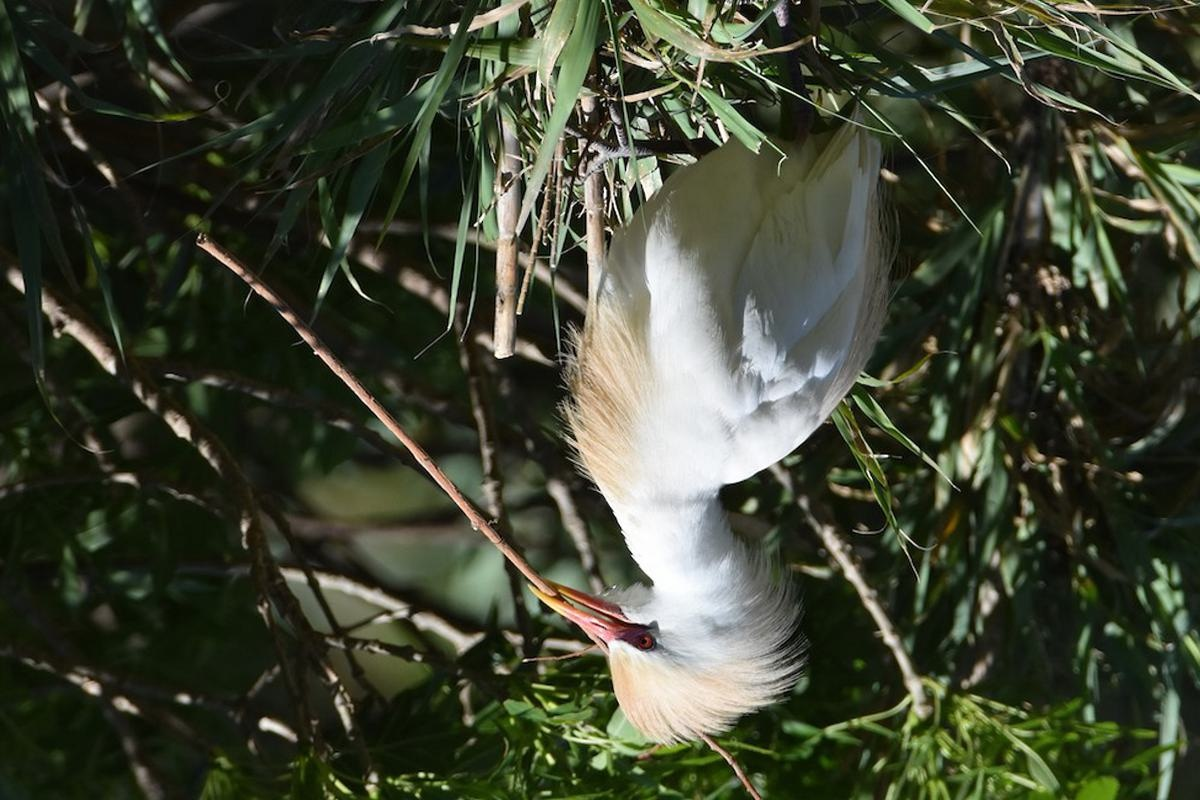egret: (530, 92, 895, 753)
